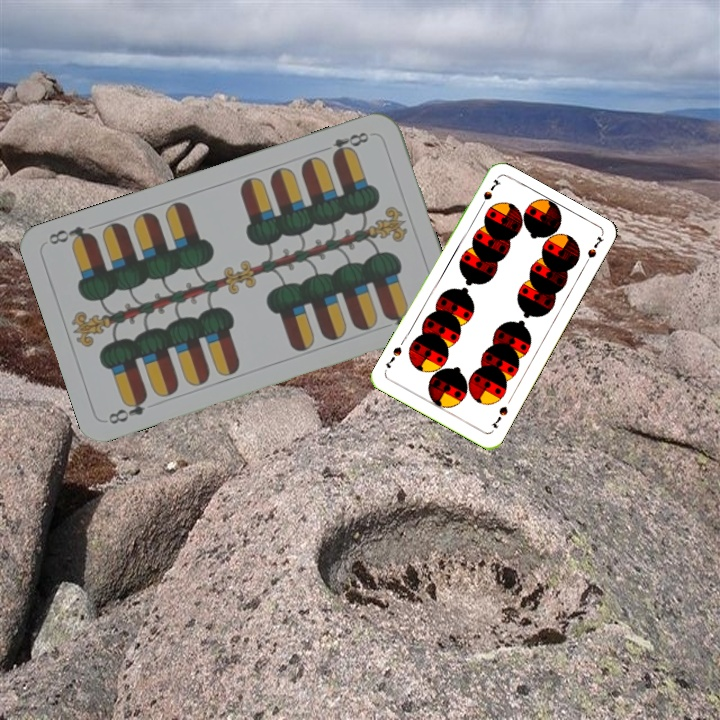E8: (318, 128, 372, 161), (104, 391, 150, 427)
S7: (475, 175, 503, 212), (486, 402, 510, 431)
